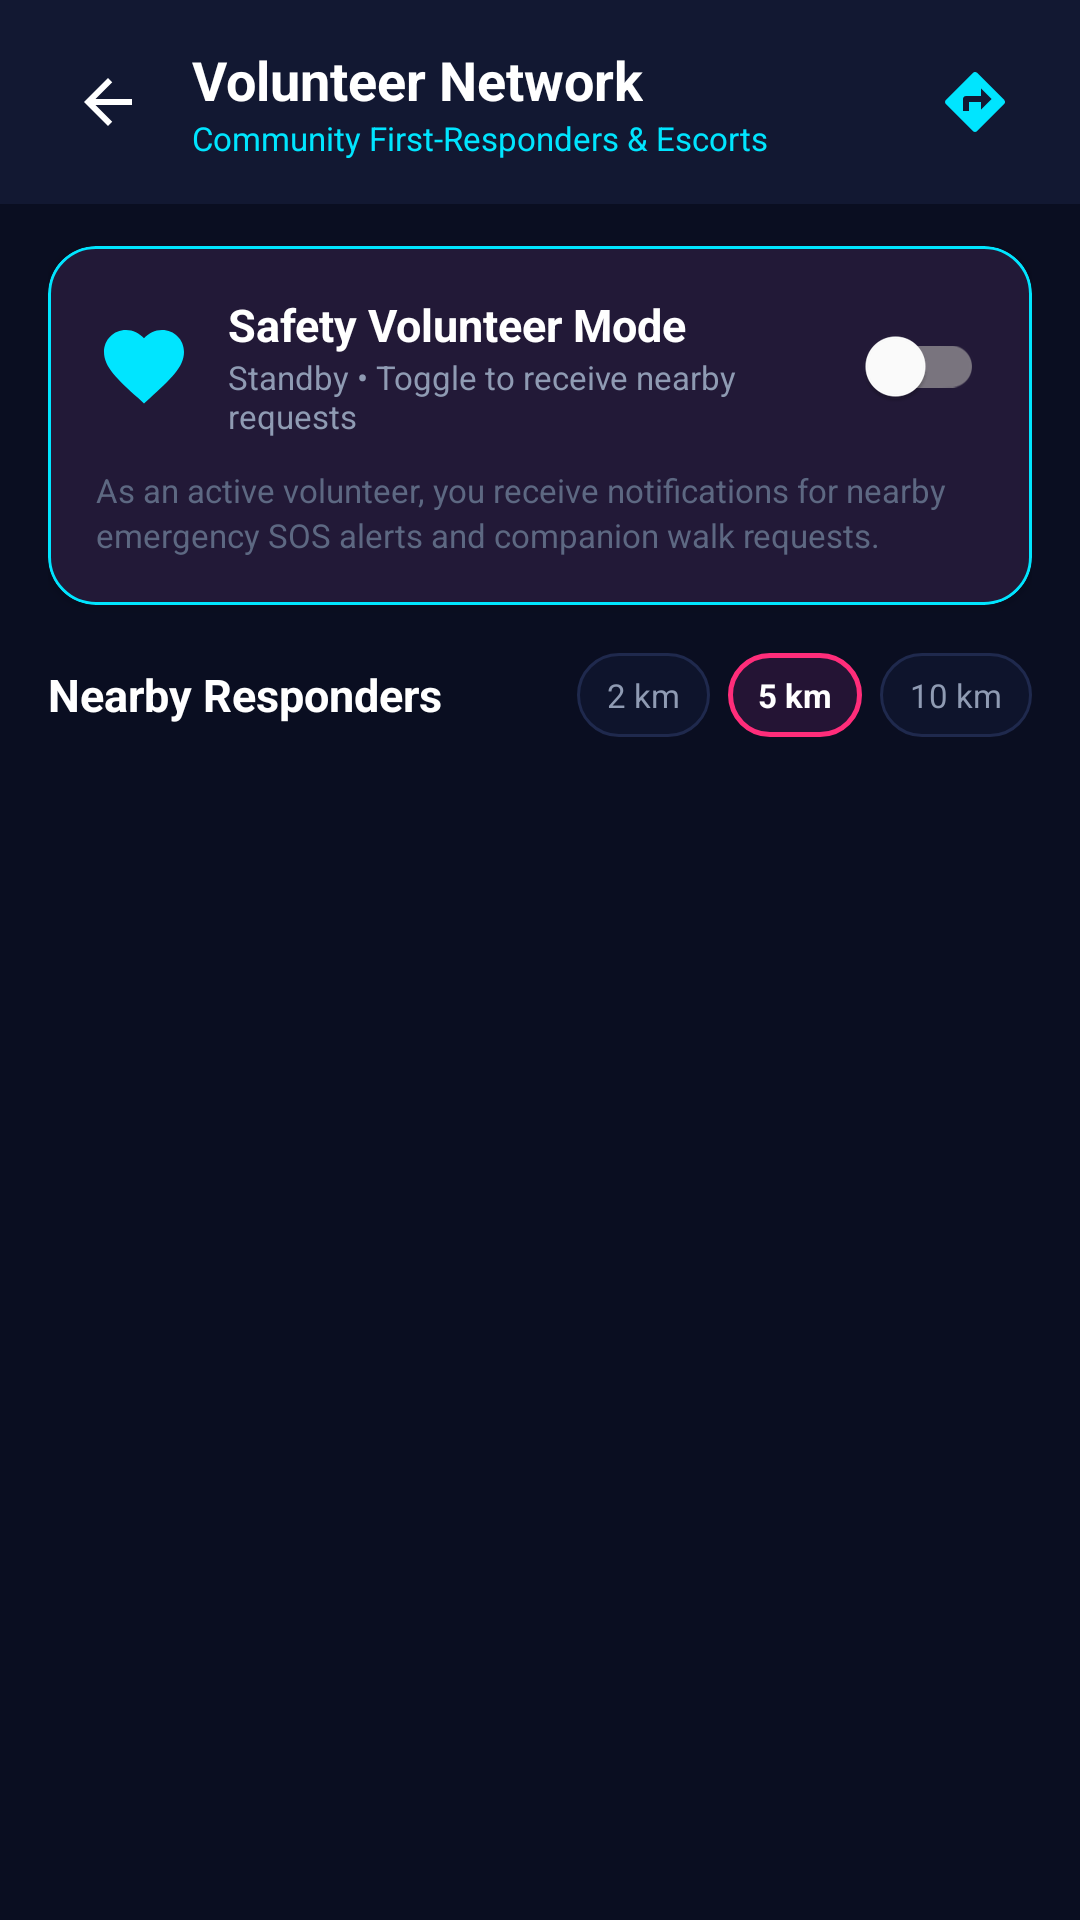

Where icons sit on this 1080 × 1920 app screen, as (left=x1, top=y1, right=x2, bottom=y2):
Back: (left=84, top=78, right=132, bottom=126)
role volunteer: (left=104, top=330, right=184, bottom=404)
